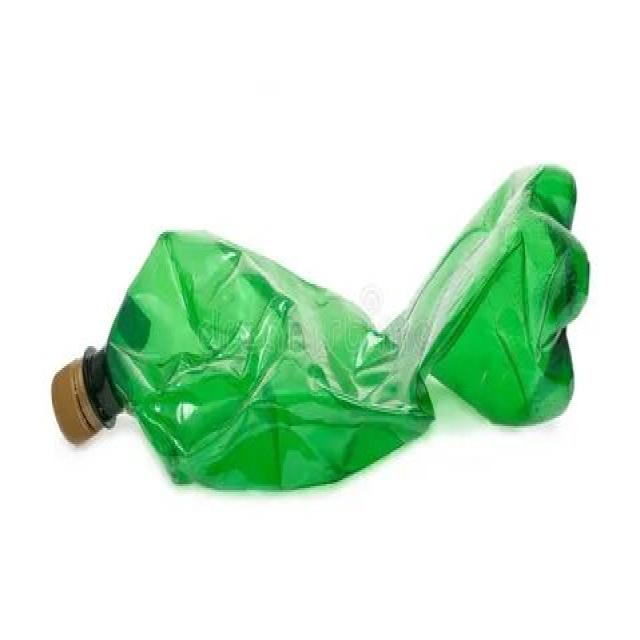green: (88, 165, 590, 490)
